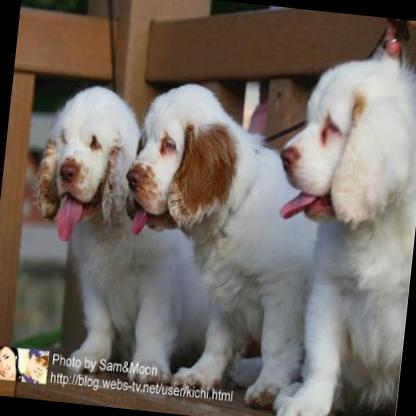clumber: (100, 75, 335, 414), (15, 73, 228, 380), (249, 39, 416, 416)
